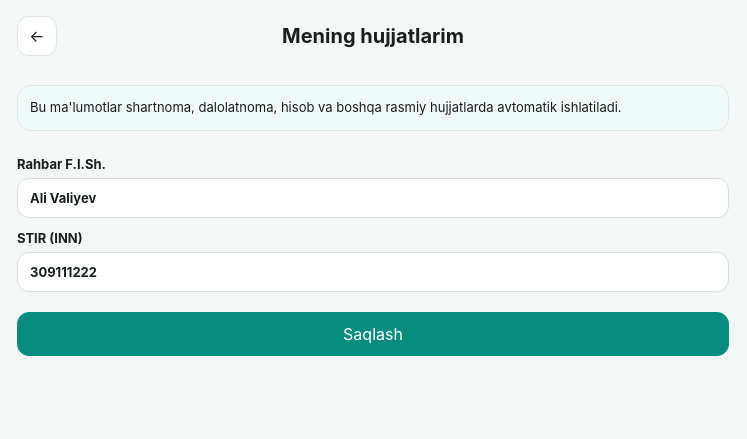
Scenario: Documents › saves the monolith My Documents director and STIR fields
Replace the text in the field labelled "Rahbar F.I.Sh." with "Vali Karimov" at x=373, y=198, box [17, 178, 729, 218]
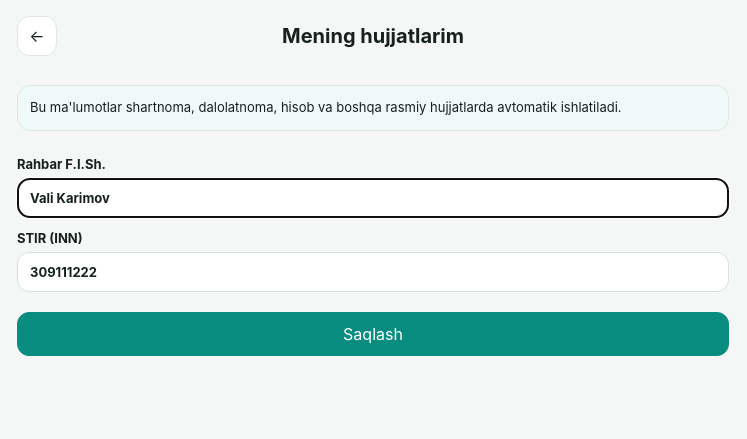
Click the button "Saqlash" at x=373, y=334, box [17, 312, 729, 356]
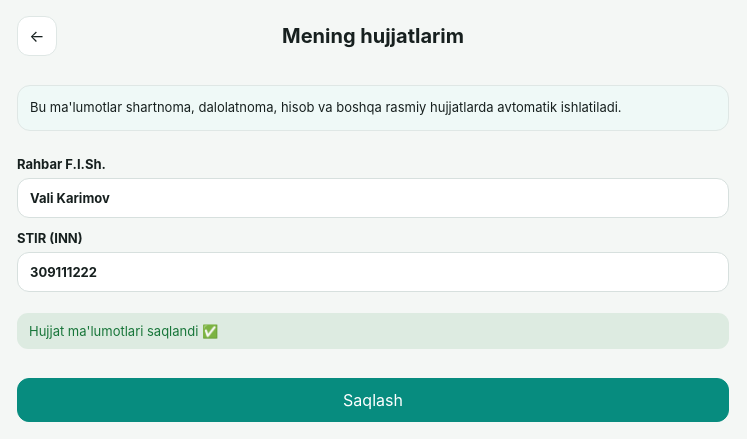
Check: the text "Hujjat ma'lumotlari saqlandi ✅" is shown, box [17, 312, 729, 348]
